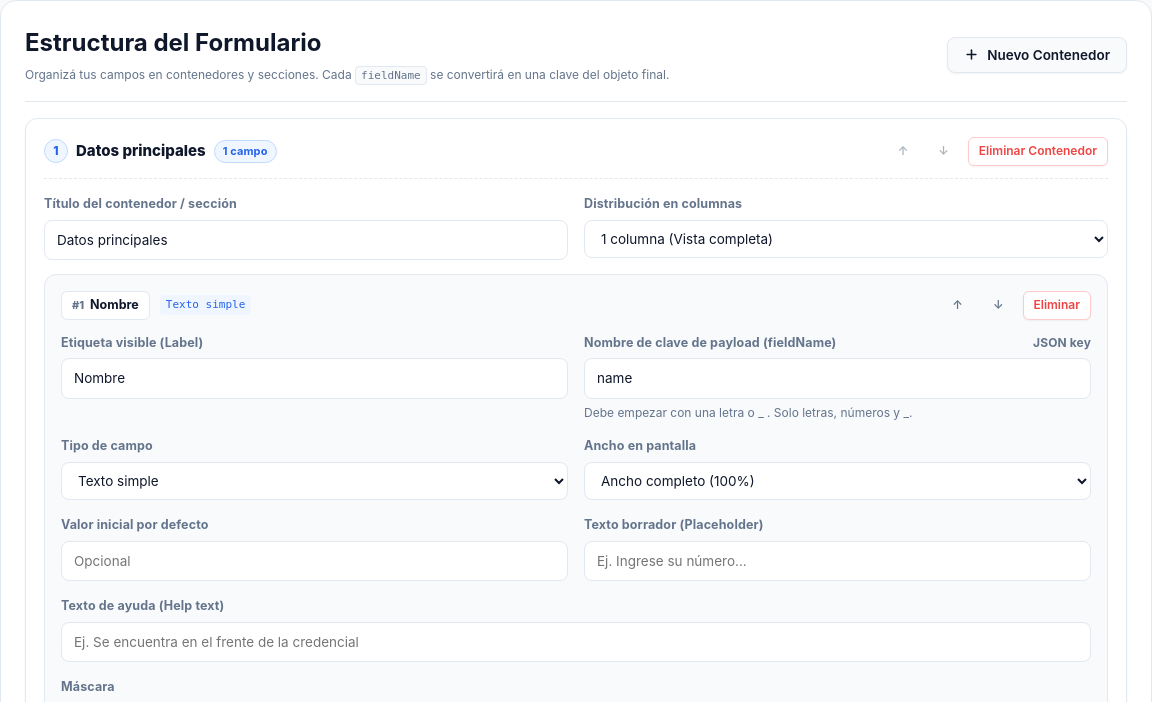
DefinitionEditor › un contenedor sin título bloquea el guardado y lo muestra junto al campo
Clear the field below "Título del contenedor / sección": [306, 240] box [44,220,568,260]
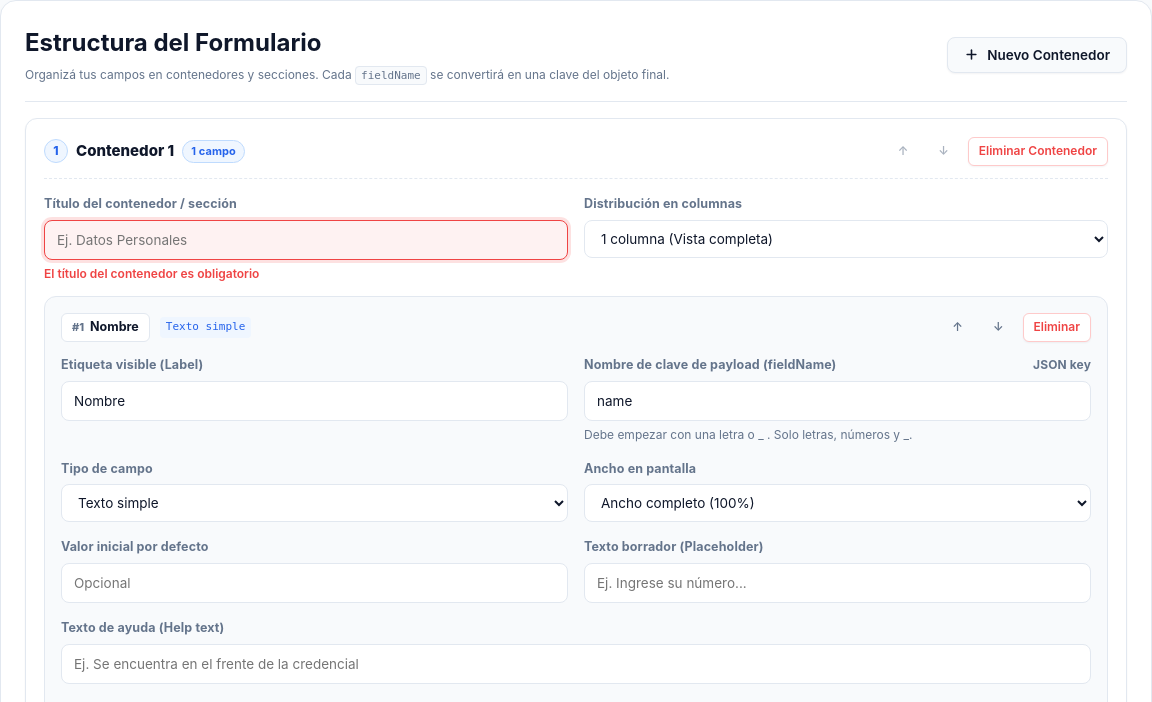
Result: the text "El título del contenedor es obligatorio" is shown at [44,266,259,281]
